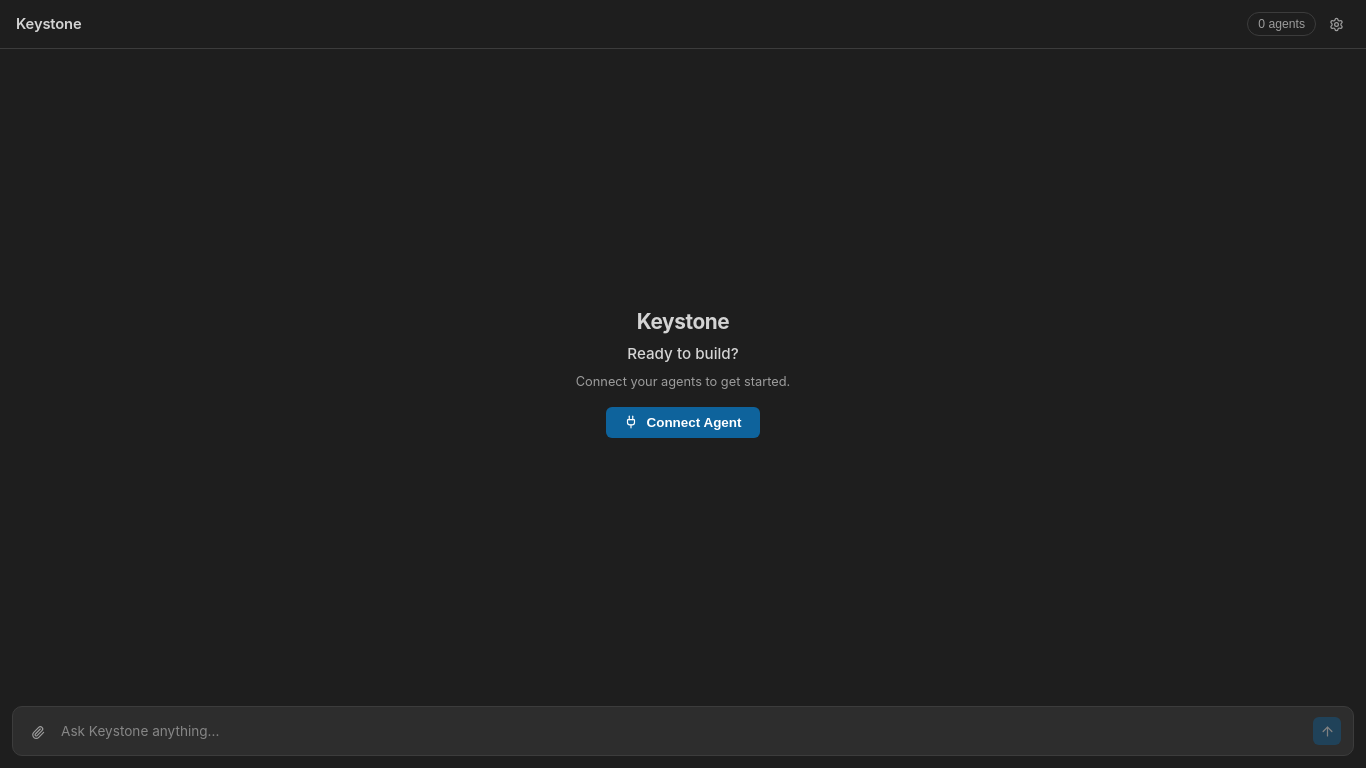
Test: KeystoneHome › 5. clicking Connect Agent opens the connection view
Click the button "Connect Agent" at (683, 422), box [606, 407, 760, 438]
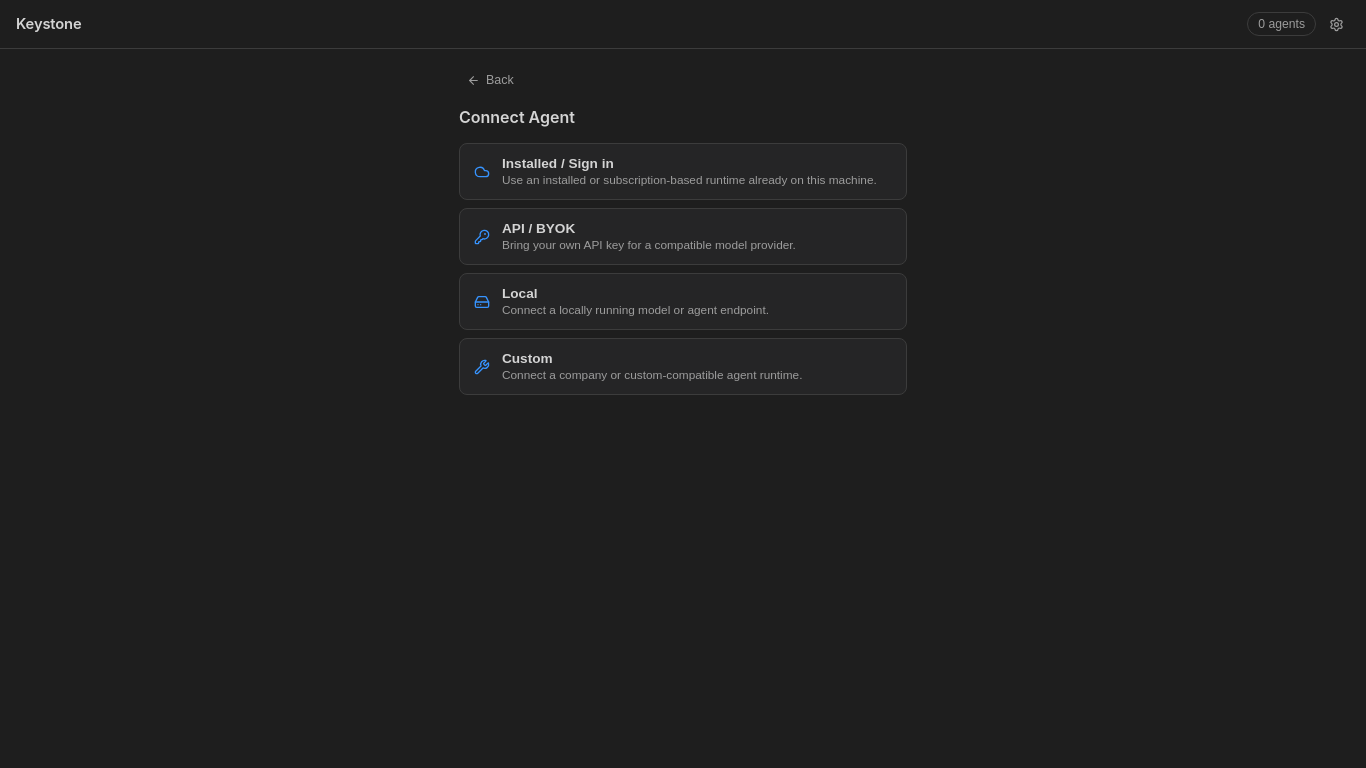
Check: the heading "Connect Agent" is shown, box [459, 107, 575, 127]
Check: the button "Installed / Sign in" is shown, box [459, 143, 907, 200]
